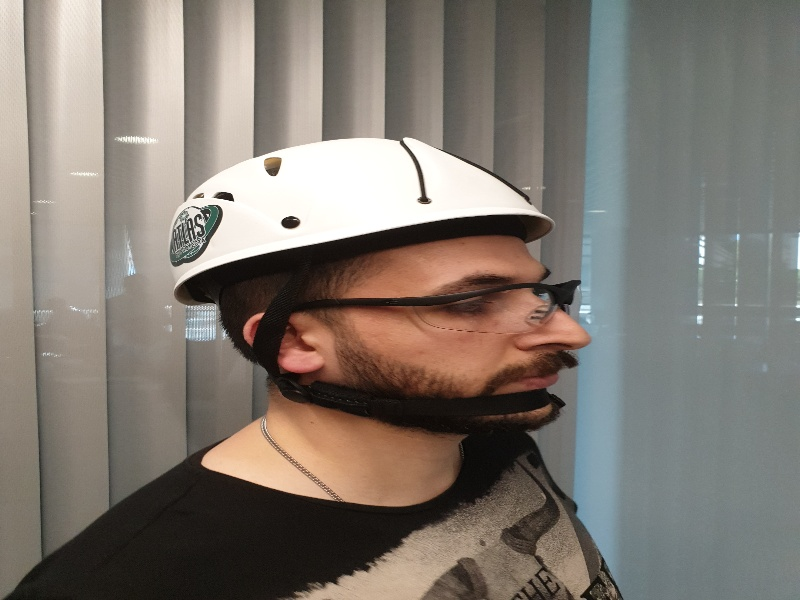Baret: (167, 138, 556, 284)
Gozluk: (302, 278, 584, 333)
